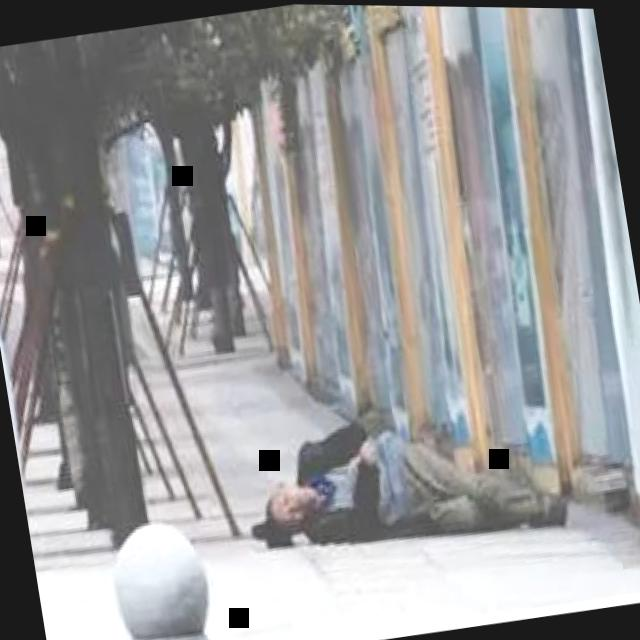Fall-Detected: (236, 376, 576, 574)
